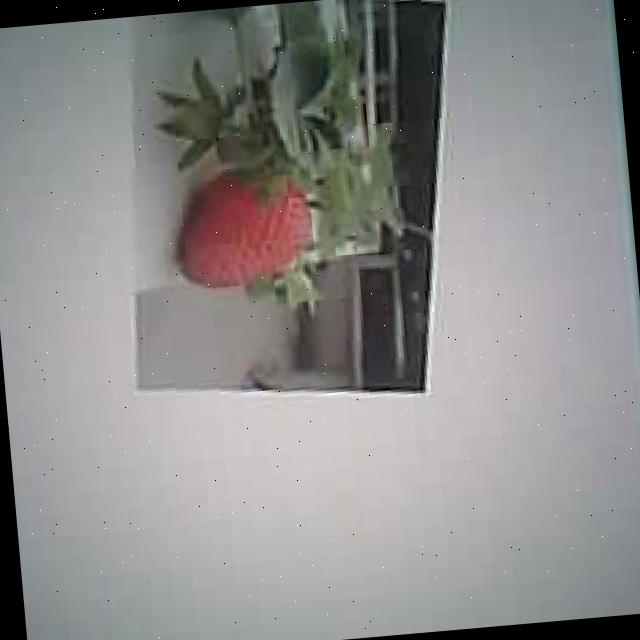strawberry: (176, 165, 318, 289)
